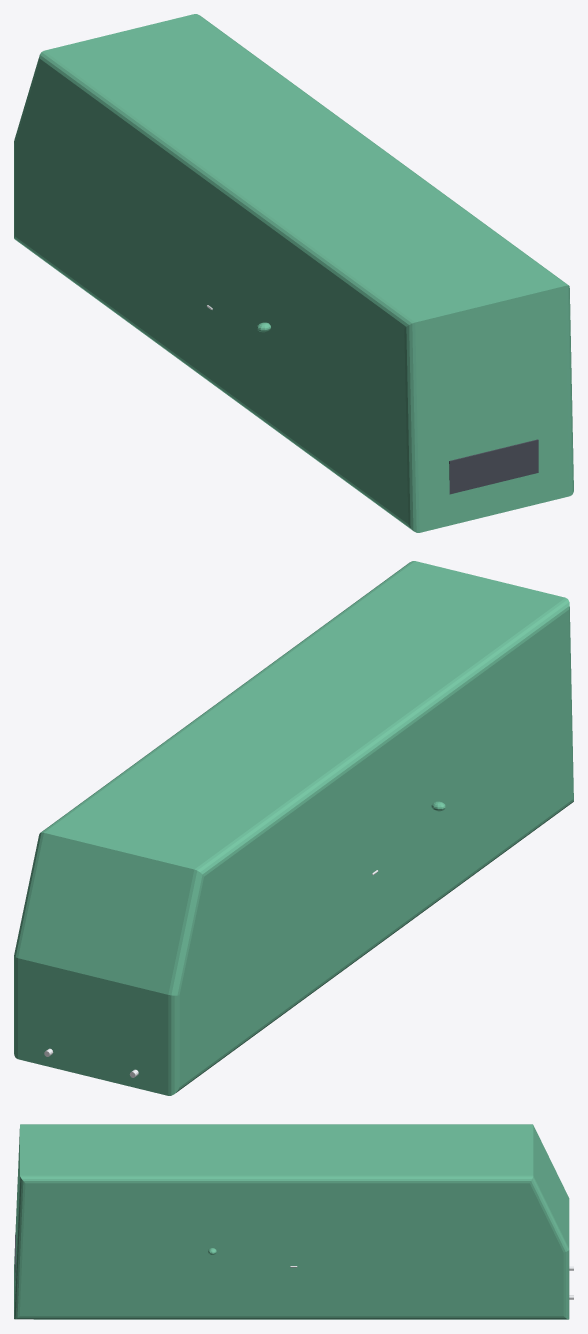
The model's file is veh_onibus.glb.
The picture shows the model from 3 angles, top to bottom: view 1: azimuth 30°, elevation 25°; view 2: azimuth 150°, elevation 25°; view 3: azimuth 270°, elevation 25°; orthographic projection. The views are drawn at different scales.
Parts seen in each view (by area): view 1: veh_onibus; view 2: veh_onibus; view 3: veh_onibus.
Boxes of the visible parts, x1,y1,x2,y2 form: veh_onibus: (14,14,573,532); veh_onibus: (14,561,573,1095); veh_onibus: (14,1124,573,1319).
Size of the model in its own units: 2.91 by 3.07 by 10.87.
